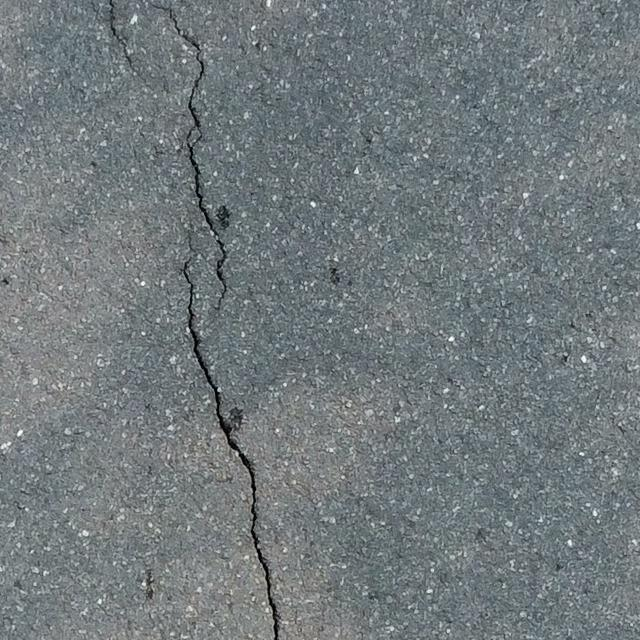LongitudinalCrack: (181, 230, 279, 640), (152, 1, 230, 311), (105, 1, 135, 68)
